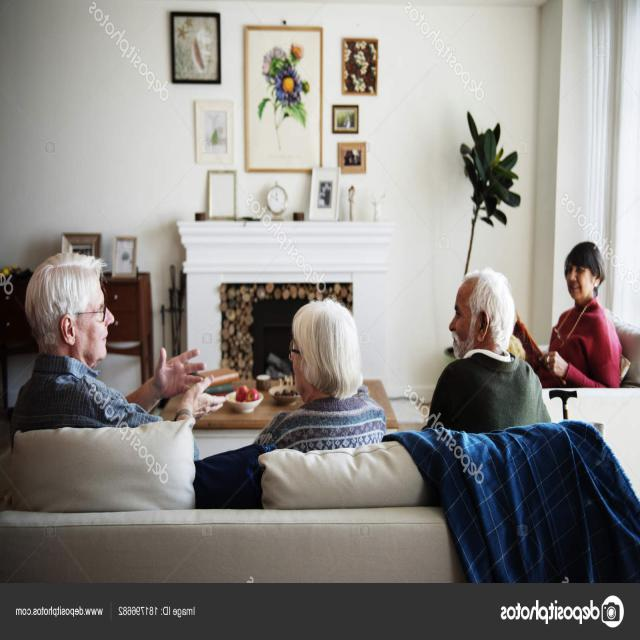adult: (11, 254, 238, 432), (248, 298, 386, 452), (423, 272, 543, 438), (512, 240, 621, 390)
